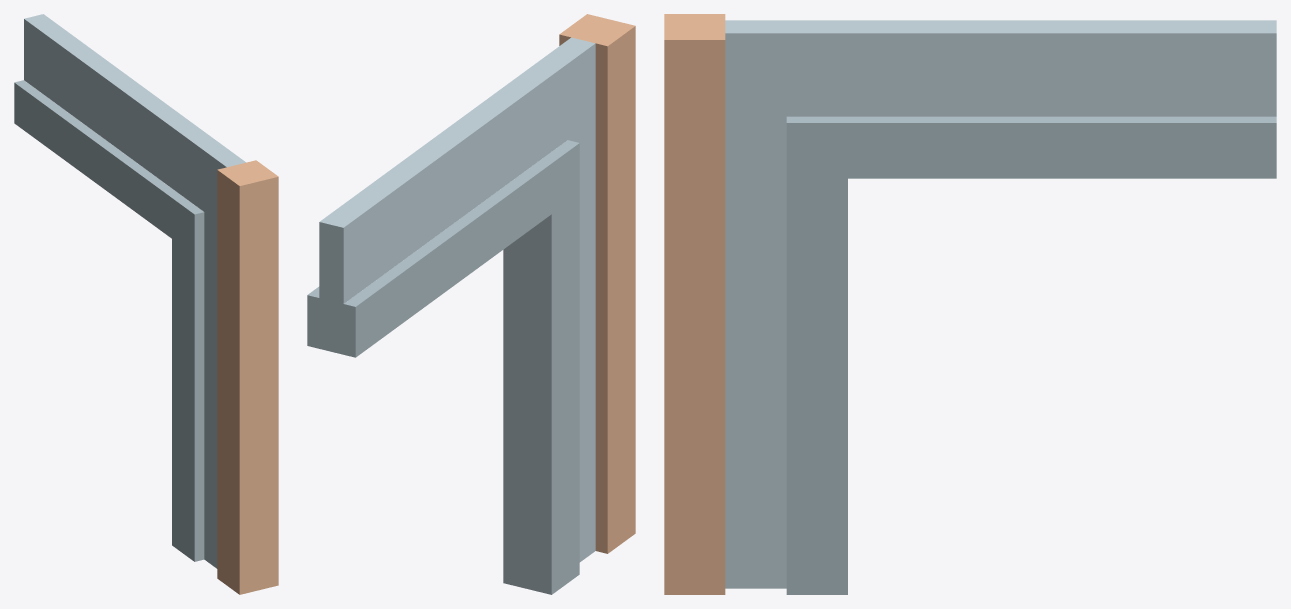
The model's file is wallDoorwaySquareWide.glb.
3 views of the same model, side by side, from view 1: azimuth 30°, elevation 25°; view 2: azimuth 150°, elevation 25°; view 3: azimuth 270°, elevation 25° (orthographic). The views are drawn at different scales.
Visible parts, largest first — view 1: wallDoorwaySquareWide; view 2: wallDoorwaySquareWide; view 3: wallDoorwaySquareWide.
Boxes of the visible parts, x1,y1,x2,y2 form: wallDoorwaySquareWide: (14,14,278,594); wallDoorwaySquareWide: (307,14,635,594); wallDoorwaySquareWide: (664,14,1276,594).
Bounding box in the file's own units: 0.1 × 1 × 1.
